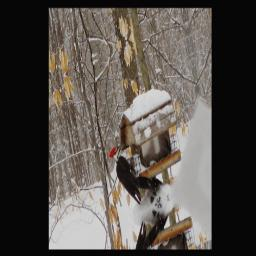Woodpecker: (107, 127, 160, 218)
